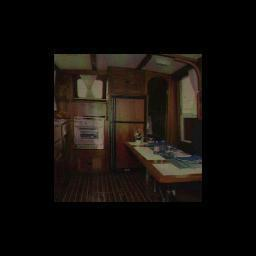Electrodomestico: (110, 96, 145, 171), (75, 116, 105, 149)
